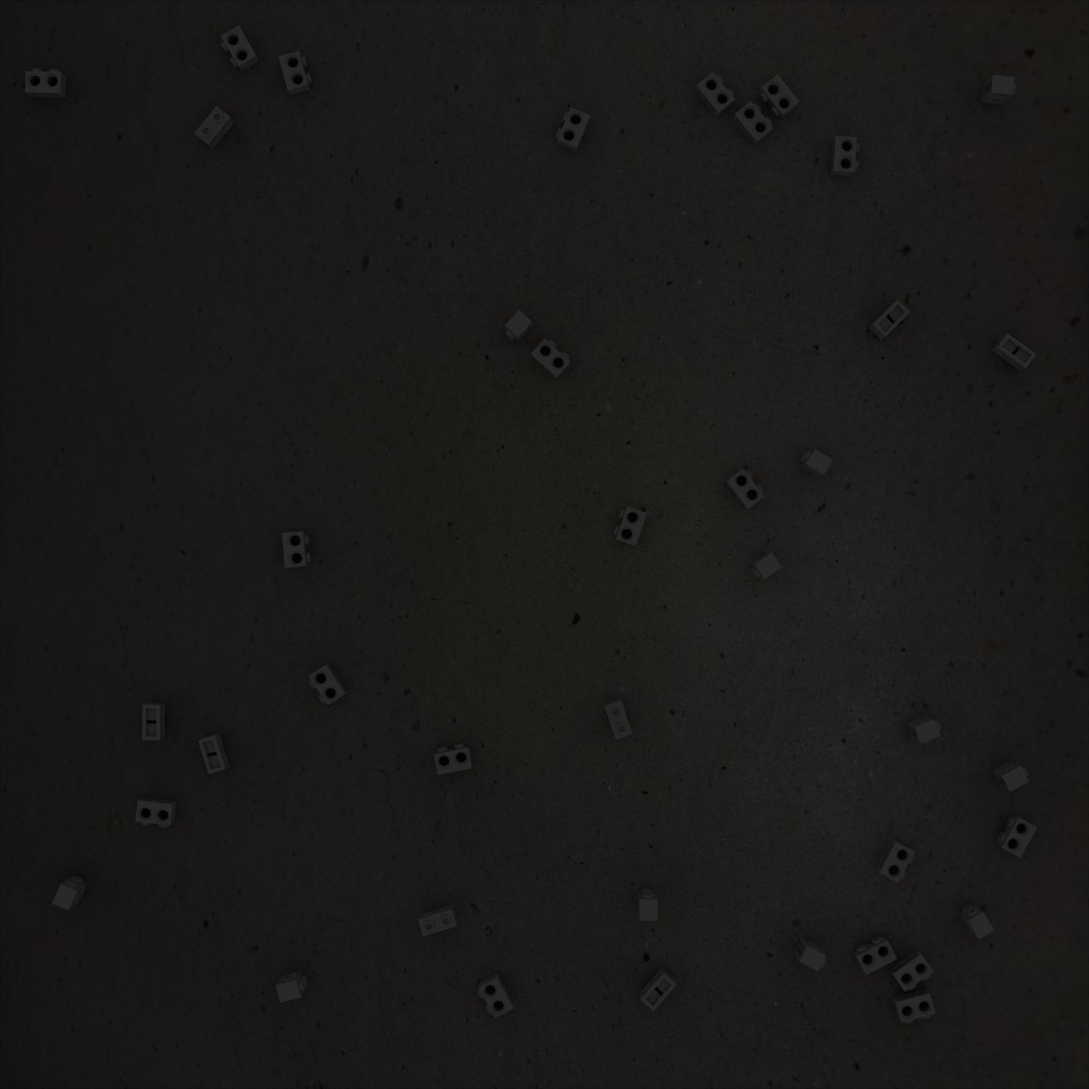lego: (889, 950, 934, 992), (759, 74, 800, 120), (732, 101, 773, 146), (221, 25, 260, 72), (194, 106, 235, 150), (695, 72, 735, 117), (997, 814, 1037, 858), (876, 838, 915, 883), (991, 333, 1037, 371), (868, 299, 910, 340), (308, 663, 348, 706), (853, 936, 897, 975), (477, 972, 514, 1018), (725, 468, 765, 510), (639, 967, 677, 1011), (531, 338, 571, 379), (555, 107, 591, 152), (892, 988, 936, 1023), (278, 51, 312, 96), (613, 506, 647, 546), (418, 904, 458, 937), (198, 733, 230, 774), (433, 743, 473, 775), (135, 798, 177, 828), (52, 876, 88, 911), (959, 904, 994, 939), (793, 937, 827, 972), (25, 69, 66, 98), (830, 136, 859, 177), (991, 761, 1029, 792), (604, 699, 632, 740), (282, 531, 311, 568), (276, 970, 308, 1003), (981, 75, 1016, 105), (906, 715, 941, 744), (800, 449, 833, 477), (505, 310, 532, 342), (750, 552, 782, 579), (142, 703, 165, 740), (637, 889, 658, 921)
